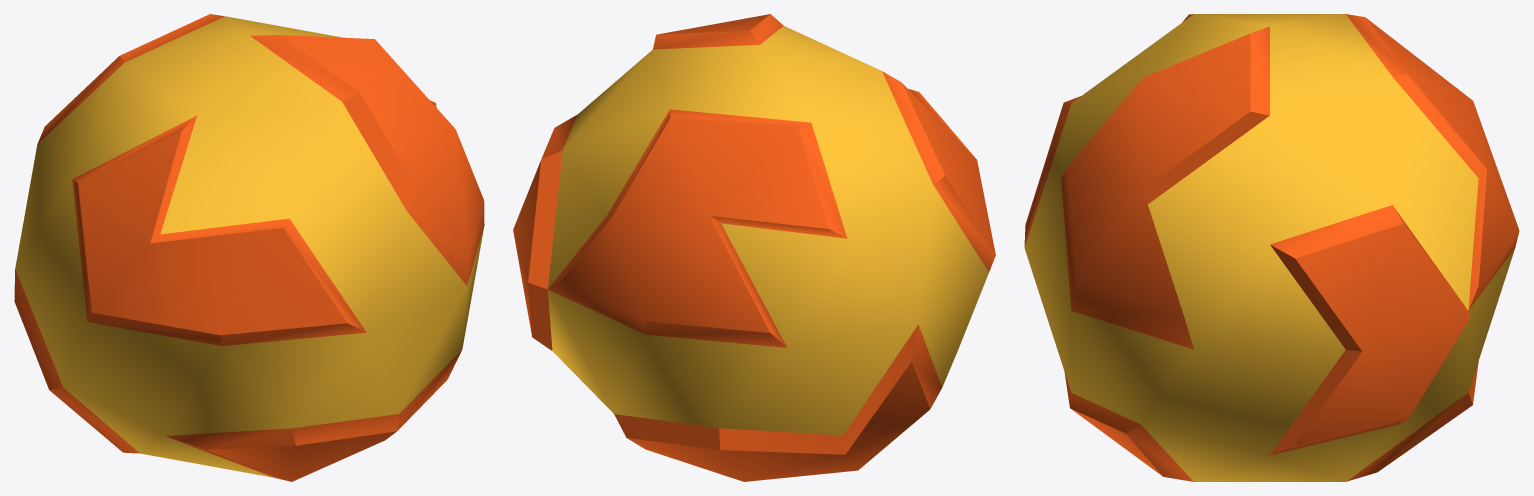
File: small_fire_planet_1.fbx
3 views of the same model, side by side, from view 1: azimuth 30°, elevation 25°; view 2: azimuth 150°, elevation 25°; view 3: azimuth 270°, elevation 25° (orthographic). The views are drawn at different scales.
Visible parts, largest first — view 1: Icosphere.002; view 2: Icosphere.002; view 3: Icosphere.002.
Boxes of the visible parts, x1,y1,x2,y2 form: Icosphere.002: (14, 14, 484, 481); Icosphere.002: (513, 14, 995, 481); Icosphere.002: (1024, 14, 1519, 481).
Size of the model in its own units: 120 by 120 by 120.
